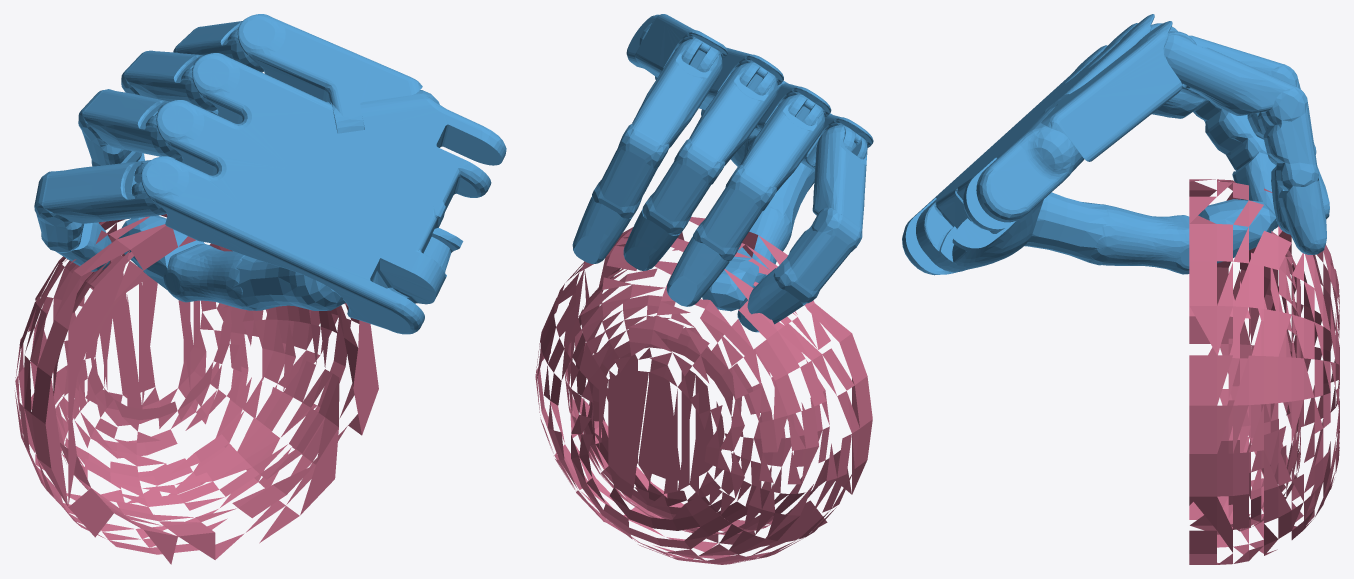
3 renders of one model, left to right at view 1: azimuth 30°, elevation 25°; view 2: azimuth 150°, elevation 25°; view 3: azimuth 270°, elevation 25°, orthographic. The views are drawn at different scales.
Parts seen in each view (by area): view 1: 2; view 2: 2; view 3: 2.
Part boxes in pixels (x1,y1,x2,y2): 2: [14, 14, 506, 564]; 2: [535, 14, 873, 564]; 2: [902, 14, 1339, 564].
Size of the model in its own units: 0.1487 by 0.2144 by 0.1579.
